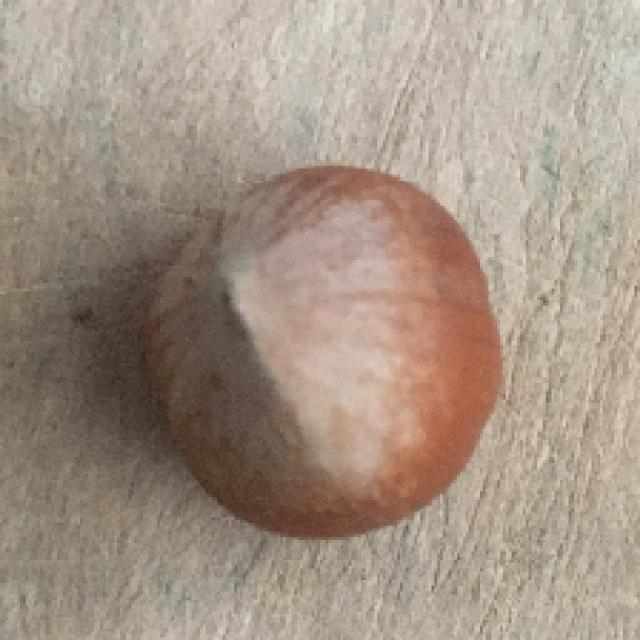qualityHazelnut: (138, 172, 511, 538)
